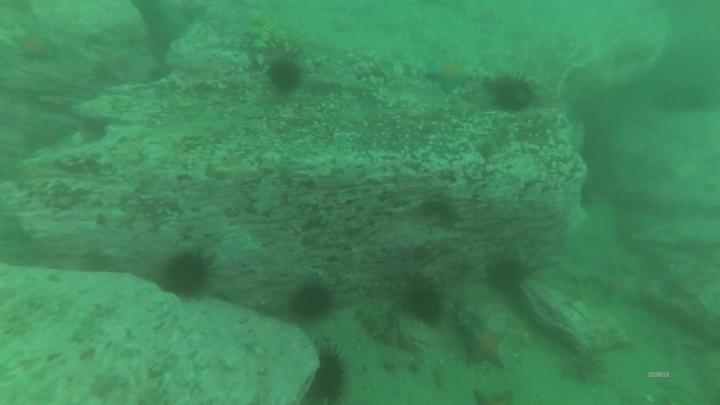echinus: (162, 252, 205, 293), (406, 286, 443, 325), (291, 285, 332, 319), (318, 353, 344, 400), (501, 79, 533, 112), (268, 60, 301, 91), (494, 260, 523, 291)
starfish: (425, 58, 476, 92), (464, 325, 507, 364), (16, 34, 51, 62)
